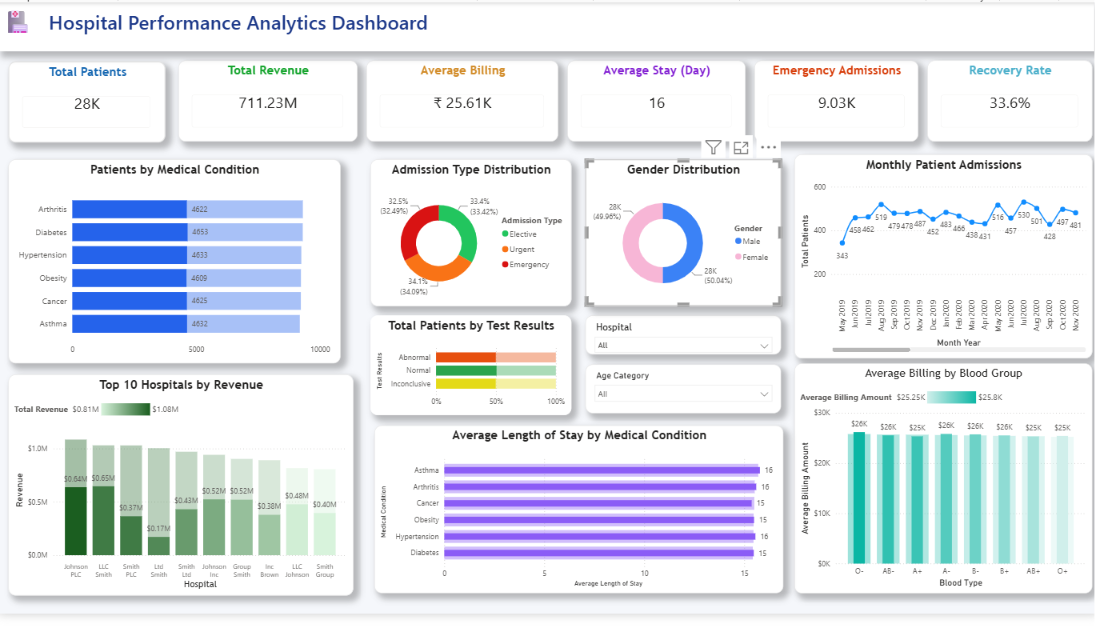

The page's visual inventory and layout, read from the dashboard file:
{"tool":"powerbi","page":{"name":"Page 1","canvas":[1800,1000],"ordinal":0},"visuals":[{"type":"cardVisual","title":"Total Revenue","fields":{"Data":["healthcare_dataset.Total Revenue"]},"box":[294.3,94.8,292.7,132.4],"z":0},{"type":"cardVisual","title":"Total Patients","fields":{"Data":["healthcare_dataset.Total Patients"]},"box":[16,96,256.7,132.4],"z":1000},{"type":"cardVisual","title":"Average Billing","fields":{"Data":["healthcare_dataset.Average Billing Amount"]},"box":[601.7,94.8,314,132.4],"z":2000},{"type":"cardVisual","title":"Average Stay (Day)","fields":{"Data":["healthcare_dataset.Average Length of Stay"]},"box":[930.4,94.8,291.1,132.4],"z":3000},{"type":"cardVisual","title":"Emergency Admissions","fields":{"Data":["healthcare_dataset.Emergency Admissions"]},"box":[1236.2,94.8,268.2,132.4],"z":4000},{"type":"clusteredBarChart","title":"Patients by Medical Condition  ","fields":{"Category":["healthcare_dataset.Medical Condition"],"Y":["healthcare_dataset.Total Patients"]},"box":[16,256,542.9,333.6],"z":5000},{"type":"textbox","box":[0,0,1792,80],"z":6000},{"type":"lineChart","title":"Monthly Patient Admissions","fields":{"Category":["healthcare_dataset.Month Year"],"Y":["healthcare_dataset.Total Patients"]},"box":[1301.6,248.5,487.3,333.6],"z":8000},{"type":"cardVisual","title":"Recovery Rate","fields":{"Data":["healthcare_dataset.Recovery Rate"]},"box":[1519.1,94.8,269.8,132.4],"z":9000},{"type":"donutChart","title":"Gender Distribution","fields":{"Category":["healthcare_dataset.Gender"],"Y":["healthcare_dataset.Total Patients"]},"box":[960,256,320,240],"z":10000},{"type":"donutChart","title":"Admission Type Distribution","fields":{"Category":["healthcare_dataset.Admission Type"],"Y":["healthcare_dataset.Total Patients"]},"box":[608,256,328.7,240.4],"z":11000},{"type":"clusteredColumnChart","title":"Top 10 Hospitals by Revenue","fields":{"Category":["healthcare_dataset.Hospital"],"Y":["healthcare_dataset.Total Revenue"]},"box":[16,608,564.1,361.4],"z":12000},{"type":"hundredPercentStackedBarChart","fields":{"Category":["healthcare_dataset.Test Results"],"Y":["healthcare_dataset.Total Patients"]},"box":[608,512,328.7,163.5],"z":13000},{"type":"slicer","fields":{"Values":["healthcare_dataset.Hospital"]},"box":[960,512,320,64],"z":14000},{"type":"slicer","fields":{"Values":["healthcare_dataset.Age Category"]},"box":[960,592,320,80],"z":15000},{"type":"clusteredColumnChart","title":"Average Billing by Blood Group","fields":{"Category":["healthcare_dataset.Blood Type"],"Y":["healthcare_dataset.Average Billing Amount"]},"box":[1301.6,590.3,487,376],"z":16000},{"type":"clusteredBarChart","fields":{"Category":["healthcare_dataset.Medical Condition"],"Y":["healthcare_dataset.Average Length of Stay"]},"box":[614.8,691.7,668.8,274.7],"z":17000}]}

Visuals, with their boxes on the page's 1800x1000 design canvas (x1, y1, x2, y2). These are canvas units, not pixel positions in the 1095x632 screenshot, which may show the page scaled, cropped or inside an application window:
"Total Revenue" cardVisual: pyautogui.locateOnScreen(294, 95, 587, 227)
"Total Patients" cardVisual: pyautogui.locateOnScreen(16, 96, 273, 228)
"Average Billing" cardVisual: pyautogui.locateOnScreen(602, 95, 916, 227)
"Average Stay (Day)" cardVisual: pyautogui.locateOnScreen(930, 95, 1222, 227)
"Emergency Admissions" cardVisual: pyautogui.locateOnScreen(1236, 95, 1504, 227)
"Patients by Medical Condition  " clusteredBarChart: pyautogui.locateOnScreen(16, 256, 559, 590)
textbox: pyautogui.locateOnScreen(0, 0, 1792, 80)
"Monthly Patient Admissions" lineChart: pyautogui.locateOnScreen(1302, 248, 1789, 582)
"Recovery Rate" cardVisual: pyautogui.locateOnScreen(1519, 95, 1789, 227)
"Gender Distribution" donutChart: pyautogui.locateOnScreen(960, 256, 1280, 496)
"Admission Type Distribution" donutChart: pyautogui.locateOnScreen(608, 256, 937, 496)
"Top 10 Hospitals by Revenue" clusteredColumnChart: pyautogui.locateOnScreen(16, 608, 580, 969)
hundredPercentStackedBarChart - healthcare_dataset.Test Results x healthcare_dataset.Total Patients: pyautogui.locateOnScreen(608, 512, 937, 676)
slicer - healthcare_dataset.Hospital: pyautogui.locateOnScreen(960, 512, 1280, 576)
slicer - healthcare_dataset.Age Category: pyautogui.locateOnScreen(960, 592, 1280, 672)
"Average Billing by Blood Group" clusteredColumnChart: pyautogui.locateOnScreen(1302, 590, 1789, 966)
clusteredBarChart - healthcare_dataset.Medical Condition x healthcare_dataset.Average Length of Stay: pyautogui.locateOnScreen(615, 692, 1284, 966)
